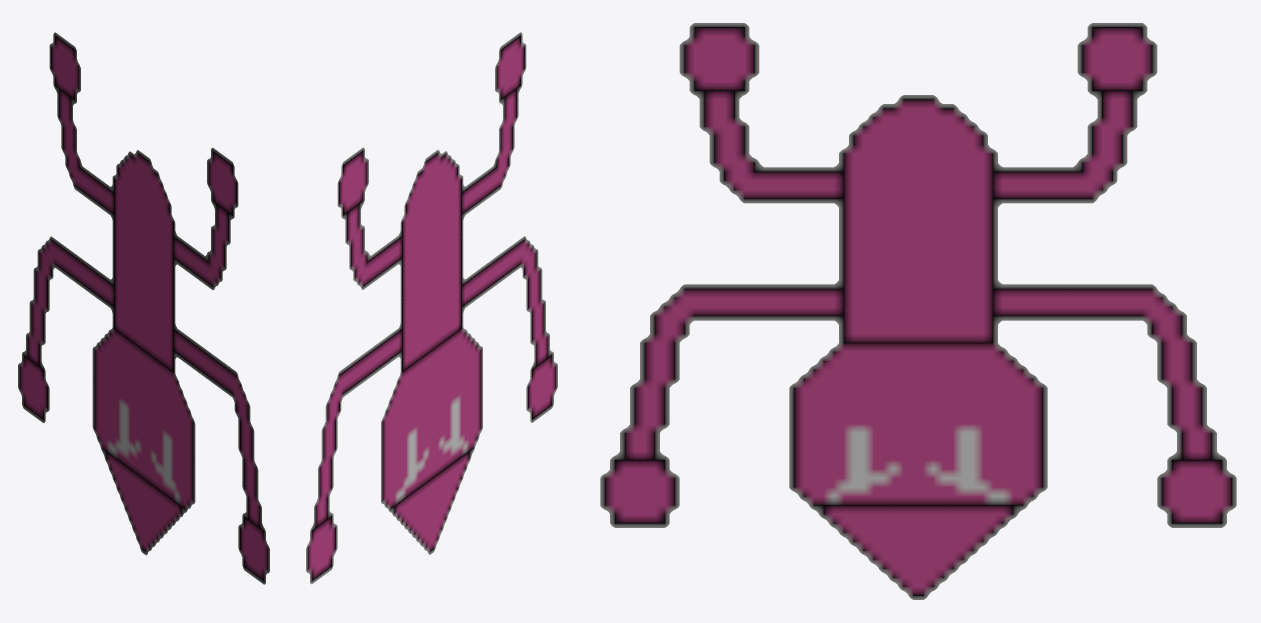
File: samplePlayer.obj
The picture shows the model from 3 angles, left to right: view 1: azimuth 30°, elevation 25°; view 2: azimuth 150°, elevation 25°; view 3: azimuth 270°, elevation 25°; orthographic projection. The views are drawn at different scales.
Parts seen in each view (by area): view 1: 平面; view 2: 平面; view 3: 平面.
Part boxes in pixels (left/top/right/bottom): 平面: left=18, top=32, right=269, bottom=584; 平面: left=306, top=32, right=557, bottom=584; 平面: left=600, top=23, right=1236, bottom=599.
Bounding box in the file's own units: 0 × 2 × 2.
